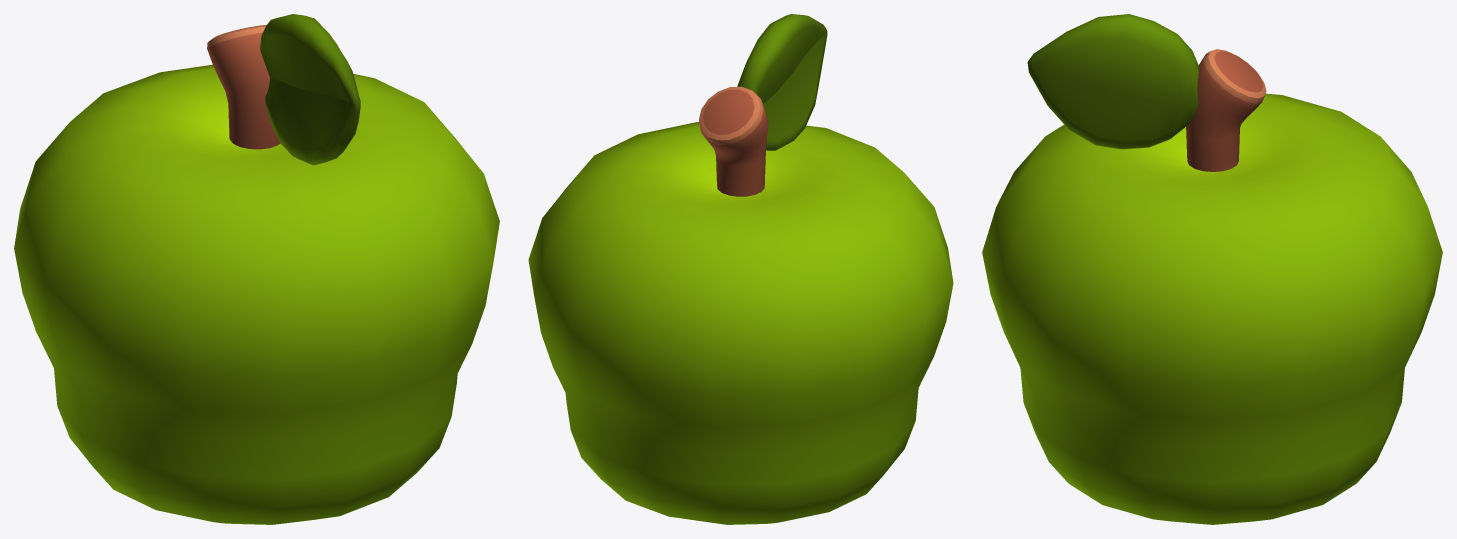
Rendered from Apple_V1_00.fbx.
3 renders of one model, left to right at view 1: azimuth 30°, elevation 25°; view 2: azimuth 150°, elevation 25°; view 3: azimuth 270°, elevation 25°, orthographic. The views are drawn at different scales.
Parts seen in each view (by area): view 1: Apple_V1_00; view 2: Apple_V1_00; view 3: Apple_V1_00.
Part boxes in pixels (box(x1,y1,x2,y2)): Apple_V1_00: box(14, 14, 499, 524); Apple_V1_00: box(528, 14, 953, 524); Apple_V1_00: box(982, 14, 1442, 524).
Bounding box in the file's own units: 31.14 × 34.94 × 31.17.
